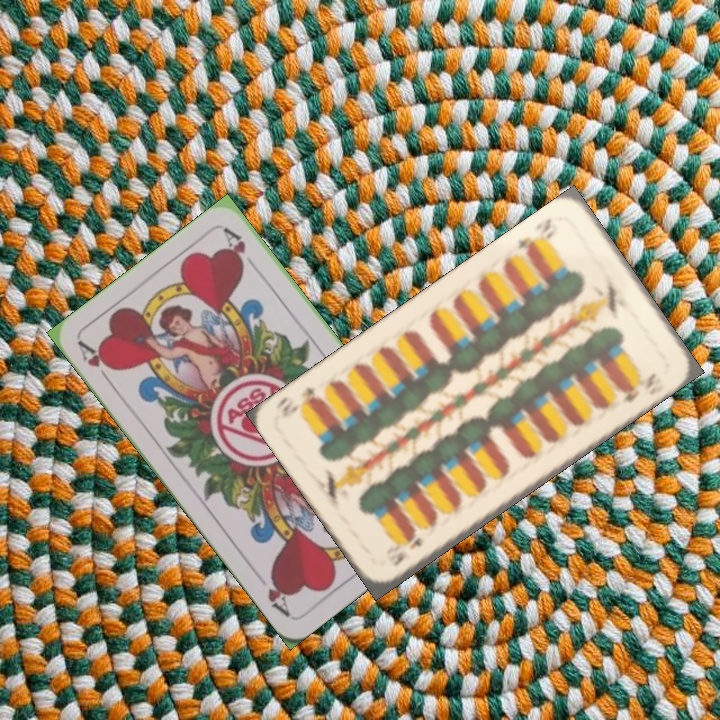E10: (513, 214, 561, 258), (383, 531, 425, 570)
HA: (74, 337, 117, 389)
